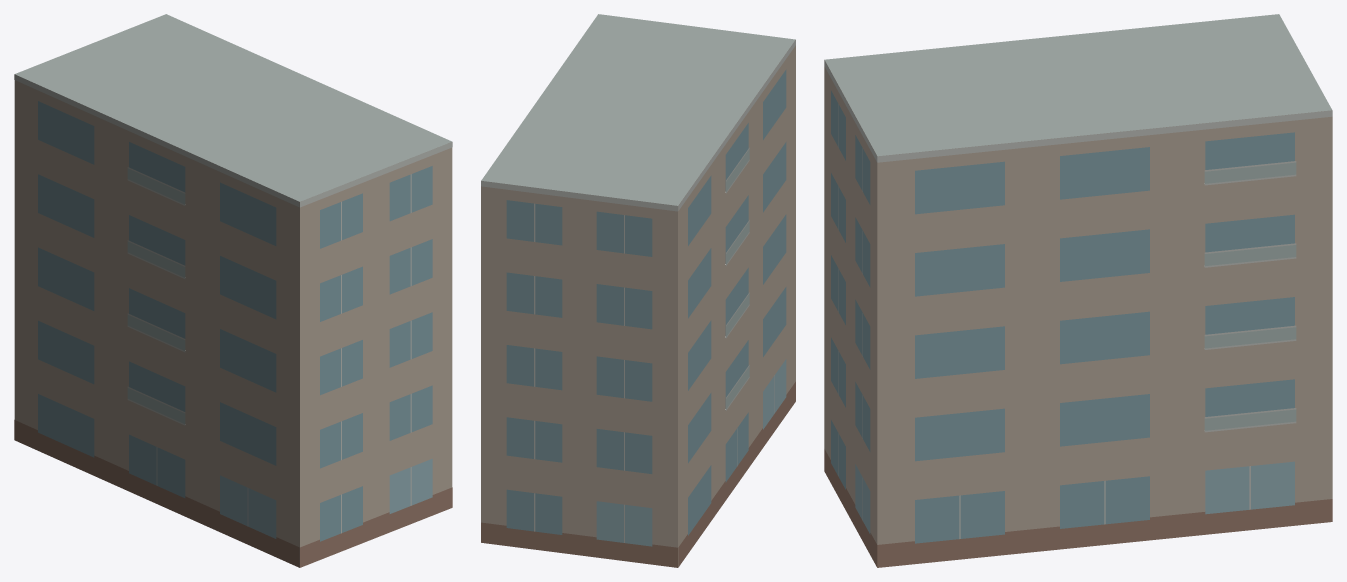
File: survey-upis-32587552.glb
3 views of the same model, side by side, from view 1: azimuth 30°, elevation 25°; view 2: azimuth 150°, elevation 25°; view 3: azimuth 270°, elevation 25° (orthographic). The views are drawn at different scales.
Visible parts, largest first — view 1: survey-upis-32587552.tmp; view 2: survey-upis-32587552.tmp; view 3: survey-upis-32587552.tmp.
Part boxes in pixels (left/top/right/bottom): survey-upis-32587552.tmp: left=14, top=14, right=452, bottom=567; survey-upis-32587552.tmp: left=481, top=14, right=795, bottom=567; survey-upis-32587552.tmp: left=824, top=14, right=1332, bottom=567.
Size of the model in its own units: 11.65 by 15.7 by 17.58.
